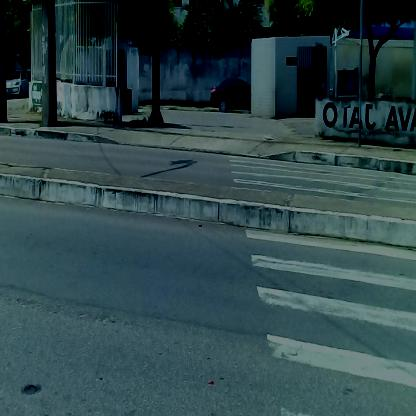crosswalk: (224, 161, 416, 416)
sidewalk: (1, 127, 416, 162)
